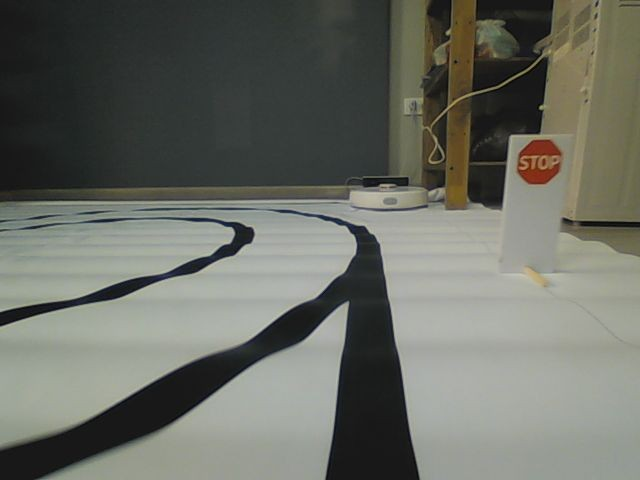Stop: (515, 140, 562, 187)
